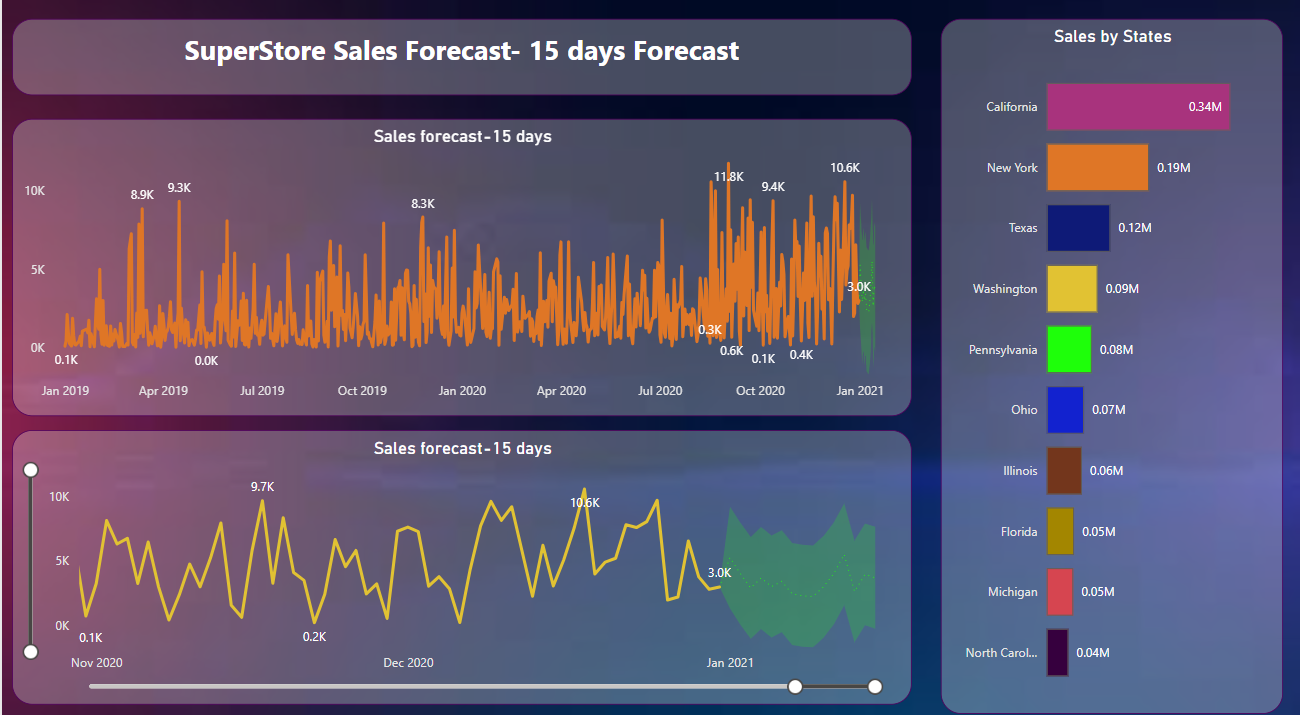

The page's visual inventory and layout, read from the dashboard file:
{"tool":"powerbi","page":{"name":"Sales Forecast","canvas":[1280,720],"ordinal":1},"visuals":[{"type":"lineChart","title":"Sales forecast-15 days","fields":{"Category":["SuperStore_Sales_Dataset.Order Date"],"Y":["Sum(SuperStore_Sales_Dataset.Sales)"]},"box":[9.8,431.9,883.4,269.9],"z":0},{"type":"lineChart","title":"Sales forecast-15 days","fields":{"Y":["Sum(SuperStore_Sales_Dataset.Sales)"],"Category":["SuperStore_Sales_Dataset.Order Date"]},"box":[9.8,126.4,883.4,292],"z":1000},{"type":"barChart","title":"Sales by States","fields":{"Category":["SuperStore_Sales_Dataset.State"],"Y":["Sum(SuperStore_Sales_Dataset.Sales)"]},"box":[921.5,28.2,336.2,682.2],"z":2000},{"type":"textbox","box":[9.8,28.2,883.4,74.8],"z":3000}]}

Visuals, with their boxes in screenshot pixels (x1, y1, x2, y2), scaled from the page's 1280x720 canvas onto the 1300x715 screenshot:
"Sales forecast-15 days" lineChart: (left=10, top=429, right=907, bottom=697)
"Sales forecast-15 days" lineChart: (left=10, top=126, right=907, bottom=415)
"Sales by States" barChart: (left=936, top=28, right=1277, bottom=705)
textbox: (left=10, top=28, right=907, bottom=102)
